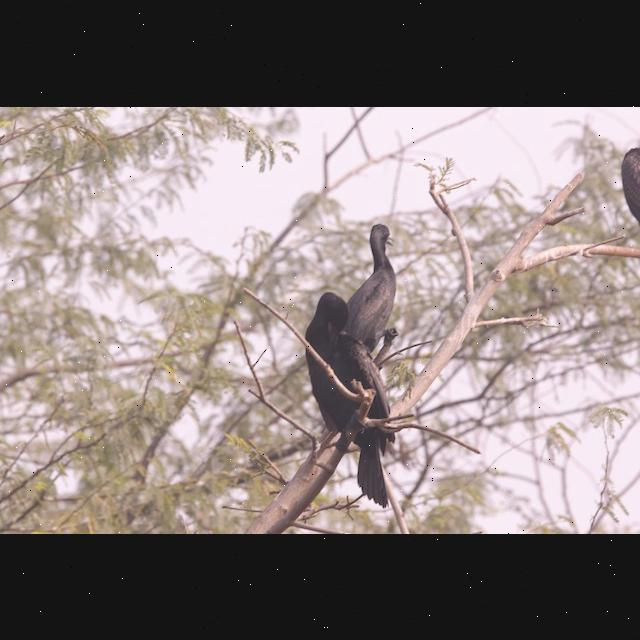cormorant: (336, 220, 404, 376)
